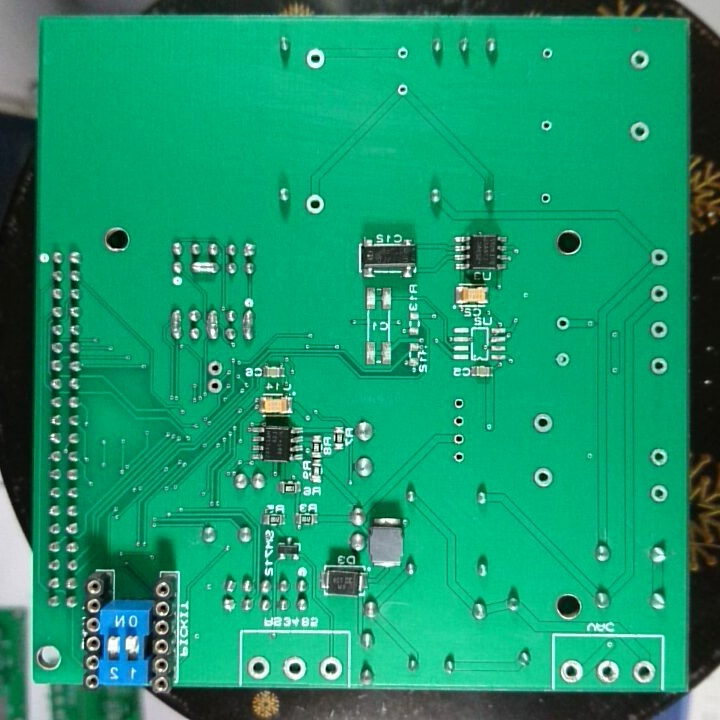F: (244, 654, 274, 682), (281, 653, 308, 683), (631, 656, 657, 686), (317, 654, 344, 681), (559, 658, 586, 685), (530, 411, 557, 437), (596, 658, 621, 686), (303, 46, 328, 72), (647, 316, 671, 343), (628, 47, 653, 72), (529, 466, 556, 489), (303, 193, 328, 217), (648, 354, 671, 380), (628, 118, 651, 143), (648, 244, 671, 269), (648, 282, 671, 307), (648, 482, 671, 505), (551, 347, 572, 370), (648, 445, 668, 469), (552, 313, 572, 335), (205, 358, 225, 377), (205, 376, 225, 395), (539, 43, 557, 63), (394, 79, 411, 100), (450, 429, 468, 448), (451, 448, 469, 466), (393, 44, 411, 61), (537, 189, 554, 207), (451, 412, 468, 430), (451, 395, 467, 413), (539, 116, 554, 133)
P: (239, 306, 257, 341), (168, 304, 184, 341), (188, 258, 220, 276), (205, 306, 220, 339)
